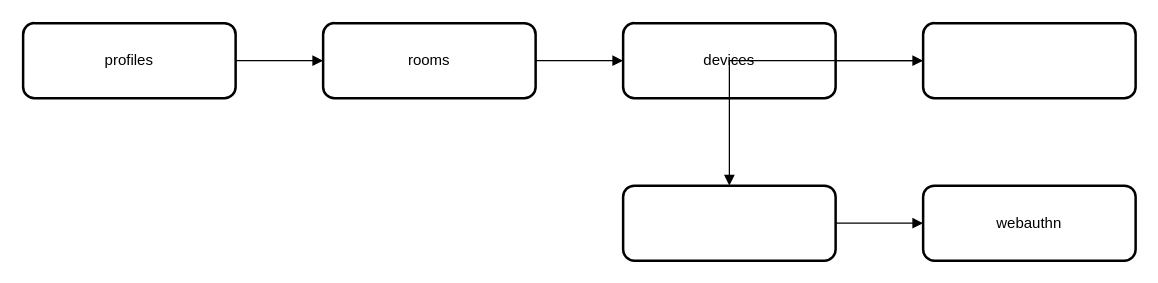
Some shapes in this 1158 by 283 pixel diagram are drawn without their labels. Here are the shapes that lost their labels. From the top down, the centre of each, then its label:
At (1028,60): "door_states".
At (728,222): "access_logs".
